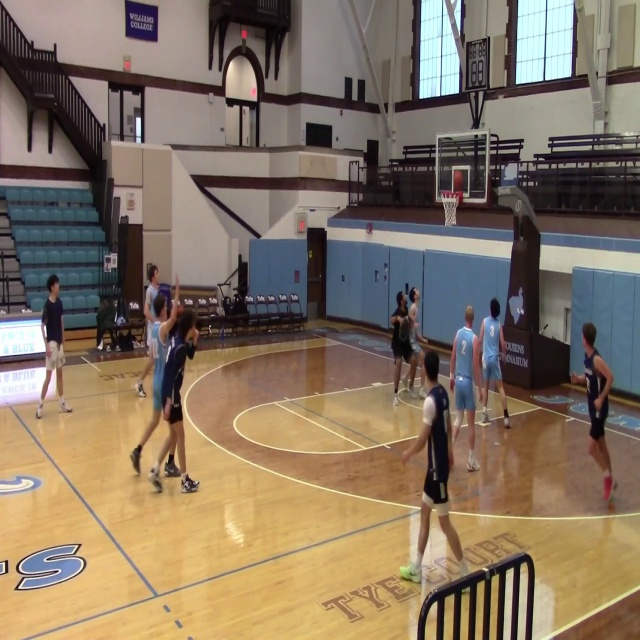Basketball: (452, 170, 463, 189)
